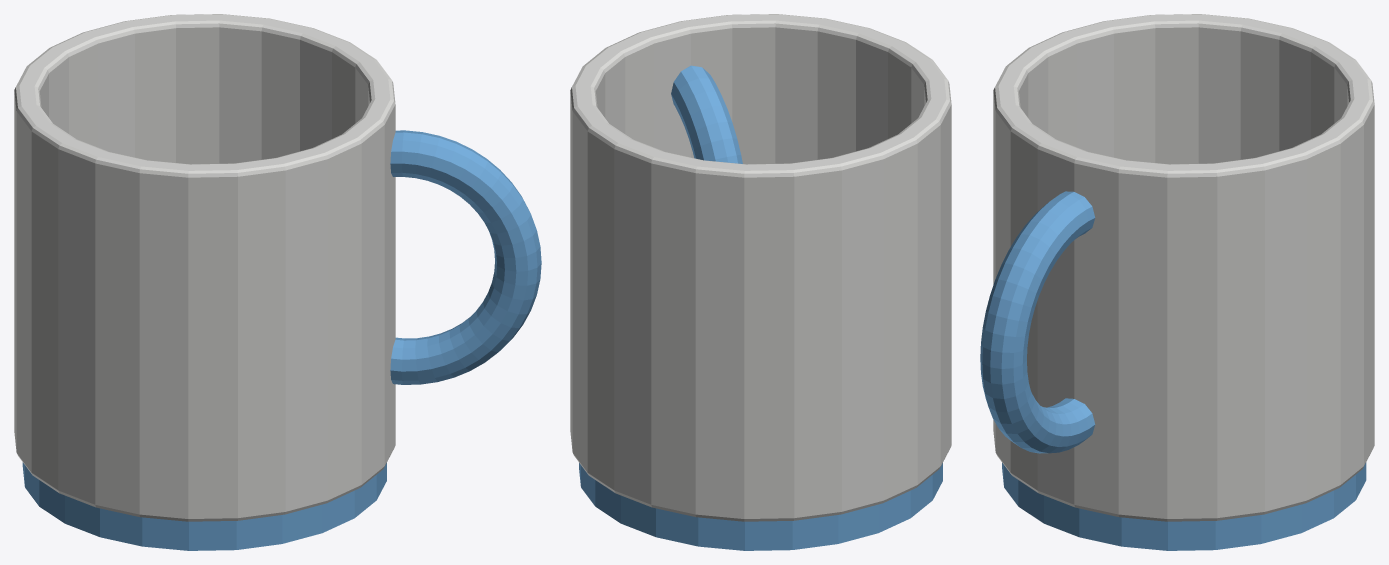
3 views of the same model, side by side, from view 1: azimuth 30°, elevation 25°; view 2: azimuth 150°, elevation 25°; view 3: azimuth 270°, elevation 25° (orthographic).
Parts seen in each view (by area): view 1: mug; view 2: mug; view 3: mug.
Part boxes in pixels (x1=…): mug: x1=14, y1=14, x2=541, y2=550; mug: x1=570, y1=14, x2=951, y2=550; mug: x1=980, y1=14, x2=1374, y2=550.
Bounding box in the file's own units: 0.1109 × 0.099 × 0.0928.
